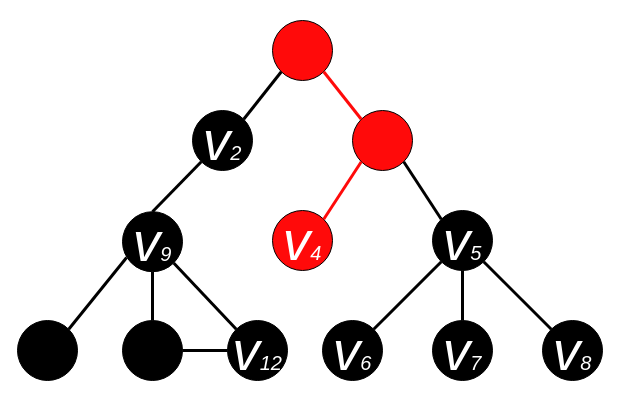
Image size: 620x401. Some labels were removed from this diagram. Here are the shapes that lost their labels. From the top down, the centre of each, then its label:
At point 302,50: "v 1".
At point 382,140: "v 3".
At point 47,350: "v 10".
At point 152,350: "v 11".
